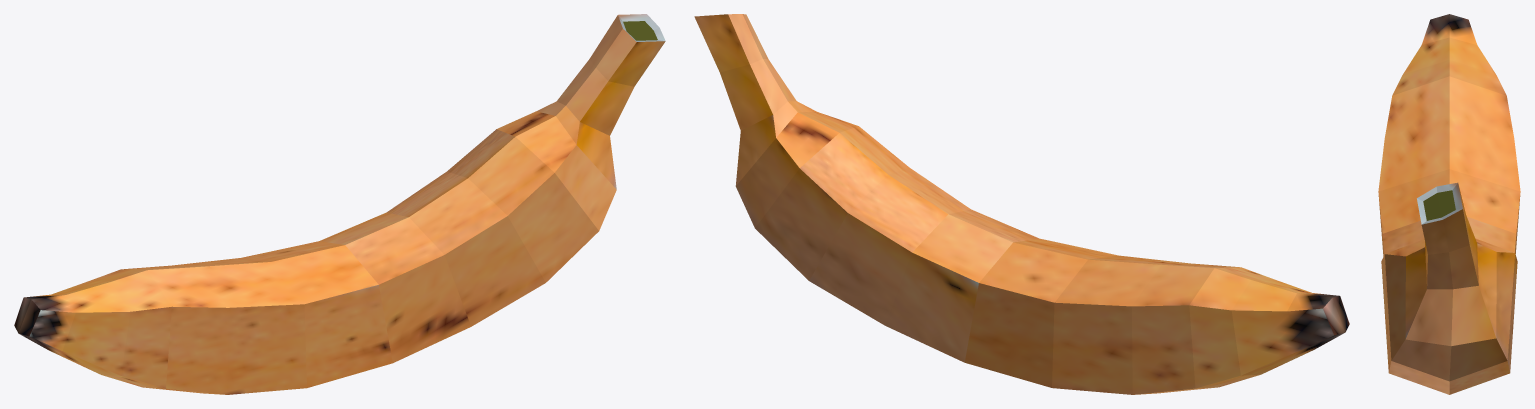
Rendered from banana.fbx.
3 views of the same model, side by side, from view 1: azimuth 30°, elevation 25°; view 2: azimuth 150°, elevation 25°; view 3: azimuth 270°, elevation 25° (orthographic). The views are drawn at different scales.
Parts seen in each view (by area): view 1: Cube.015; view 2: Cube.015; view 3: Cube.015.
Part boxes in pixels (bbox=[...]): Cube.015: bbox=[14, 14, 665, 394]; Cube.015: bbox=[694, 14, 1349, 394]; Cube.015: bbox=[1378, 14, 1520, 394].
Bounding box in the file's own units: 17.26 × 7.32 × 2.97.
Materials: 2 (1 with a texture image).
